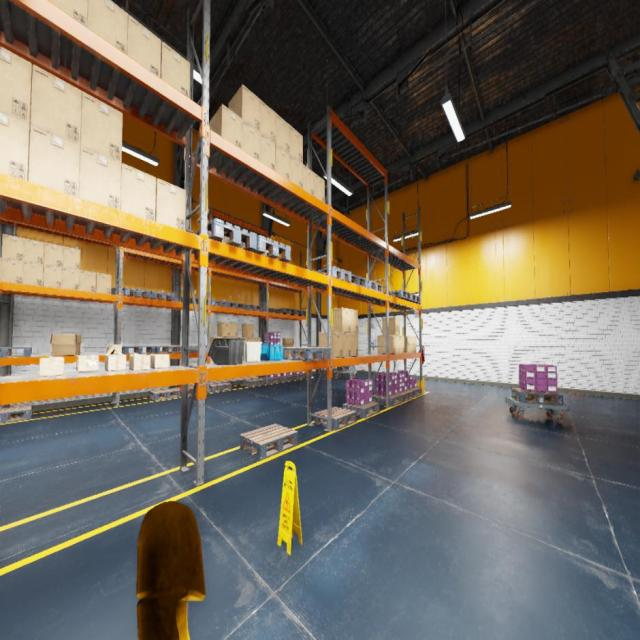box: (30, 64, 82, 145), (29, 125, 80, 197), (81, 91, 123, 163), (79, 146, 121, 210), (0, 46, 32, 126), (128, 14, 162, 78), (88, 0, 128, 54), (120, 163, 156, 221), (0, 112, 30, 181), (161, 41, 190, 98), (155, 178, 186, 231), (209, 104, 242, 150), (229, 85, 260, 132), (48, 0, 88, 27), (242, 119, 260, 161), (260, 98, 275, 144), (50, 334, 81, 356), (318, 332, 342, 358), (260, 132, 276, 171), (2, 234, 25, 261), (1, 258, 23, 284), (23, 238, 44, 265), (22, 261, 44, 286), (105, 344, 126, 370), (276, 114, 289, 154), (44, 242, 64, 268), (276, 144, 290, 180), (39, 358, 64, 377), (43, 265, 63, 288), (332, 308, 351, 332), (290, 125, 302, 163), (76, 354, 99, 372), (290, 154, 302, 188), (63, 246, 80, 270), (62, 268, 80, 290), (128, 354, 150, 371), (377, 335, 396, 354), (96, 272, 112, 294), (80, 270, 96, 292), (303, 164, 314, 195), (382, 317, 400, 335), (314, 173, 324, 203), (150, 354, 170, 368), (404, 336, 417, 352), (342, 332, 350, 357), (350, 310, 358, 333), (217, 323, 230, 337), (351, 333, 358, 356), (242, 324, 254, 337), (210, 337, 222, 348), (230, 323, 238, 337), (283, 338, 294, 346), (400, 336, 404, 353), (396, 336, 400, 353), (238, 338, 246, 342), (247, 338, 254, 342), (254, 338, 260, 342), (0, 257, 1, 281)
forklift: (136, 501, 206, 639)
pallets: (192, 218, 257, 251), (240, 424, 298, 460), (245, 235, 290, 262), (314, 406, 356, 431), (511, 388, 563, 406), (283, 347, 330, 361), (314, 266, 352, 282), (0, 405, 32, 424), (343, 402, 379, 418), (150, 388, 181, 401), (372, 394, 403, 406), (344, 274, 367, 288), (0, 348, 32, 358), (122, 287, 150, 298), (360, 280, 382, 293), (384, 290, 412, 300), (122, 346, 155, 354), (206, 382, 232, 392), (151, 292, 175, 302), (180, 345, 207, 353), (242, 378, 266, 386), (176, 386, 195, 396), (155, 346, 181, 353), (398, 390, 413, 402), (206, 299, 228, 307), (407, 388, 422, 398), (406, 293, 420, 303), (246, 304, 263, 311), (276, 308, 295, 314), (336, 365, 355, 371), (228, 302, 246, 308), (263, 378, 283, 383), (280, 375, 296, 381), (292, 374, 307, 380), (293, 309, 306, 315)
